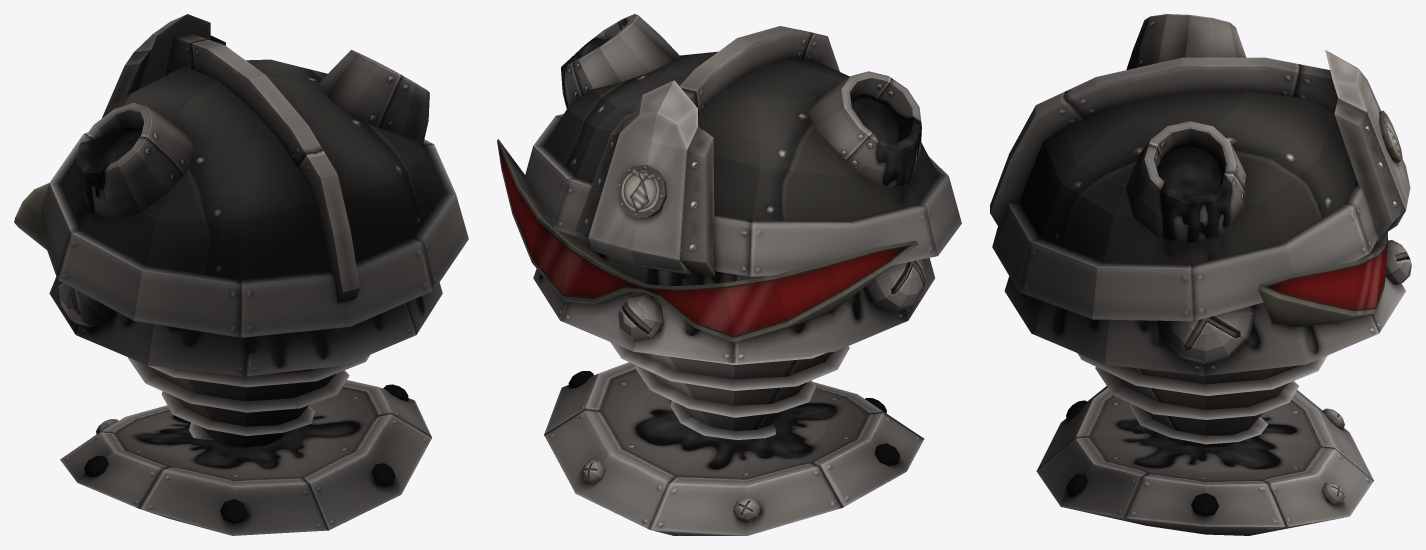
The model's file is derrick-hand_head.glb.
The picture shows the model from 3 angles, left to right: view 1: azimuth 30°, elevation 25°; view 2: azimuth 150°, elevation 25°; view 3: azimuth 270°, elevation 25°; orthographic projection. The views are drawn at different scales.
Visible parts, largest first — view 1: Object; view 2: Object; view 3: Object.
Part boxes in pixels (x1=…): Object: x1=14, y1=14, x2=468, y2=535; Object: x1=497, y1=14, x2=961, y2=535; Object: x1=990, y1=14, x2=1411, y2=535.
Bounding box in the file's own units: 2.16 × 2.23 × 1.87.
Materials: 1 (1 with a texture image).
